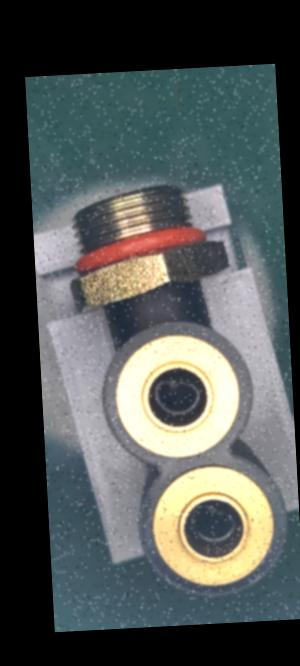off-centered: (184, 497, 247, 544), (148, 374, 210, 418)
